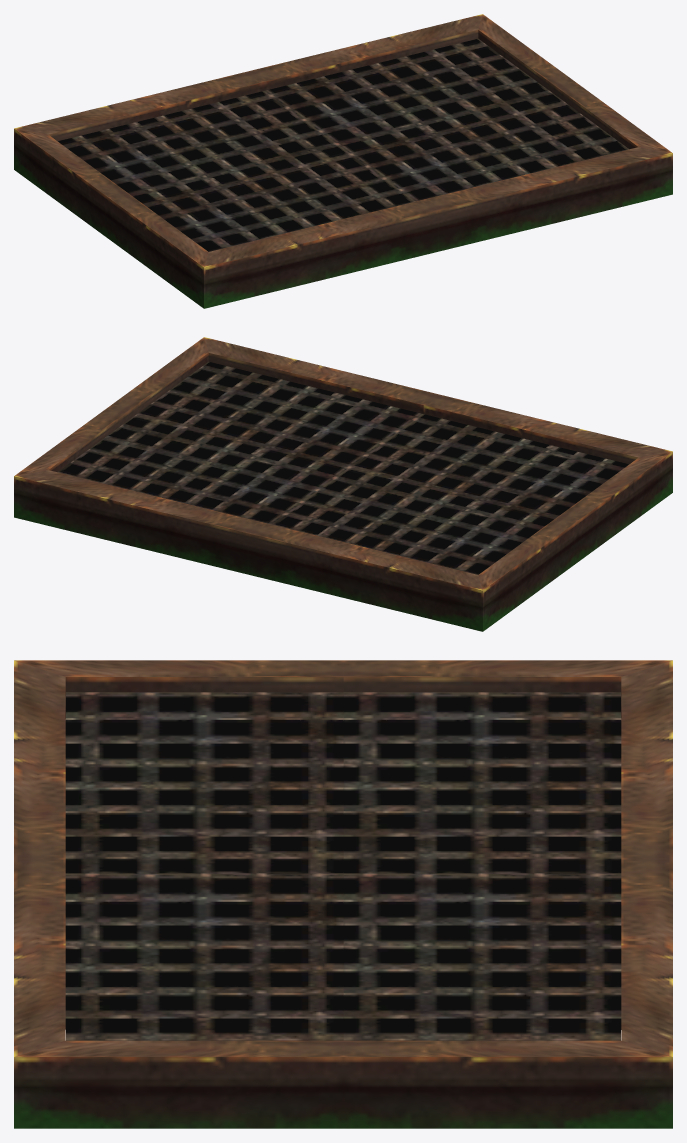
File: Iron net01.FBX
The picture shows the model from 3 angles, top to bottom: view 1: azimuth 30°, elevation 25°; view 2: azimuth 150°, elevation 25°; view 3: azimuth 270°, elevation 25°; orthographic projection. The views are drawn at different scales.
Parts seen in each view (by area): view 1: Iron_net01; view 2: Iron_net01; view 3: Iron_net01.
Boxes of the visible parts, x1,y1,x2,y2 form: Iron_net01: (14,14,672,308); Iron_net01: (14,337,672,631); Iron_net01: (14,660,672,1128).
Bounding box in the file's own units: 174 × 14.64 × 122.
